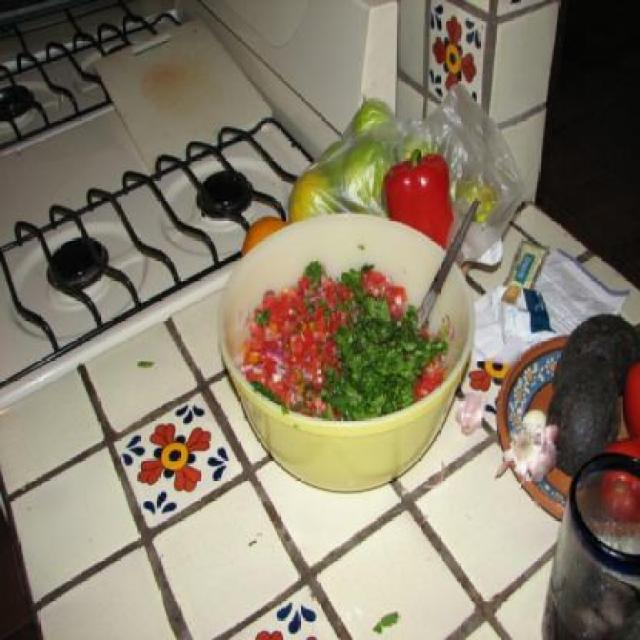Bell pepper: (381, 152, 456, 244)
